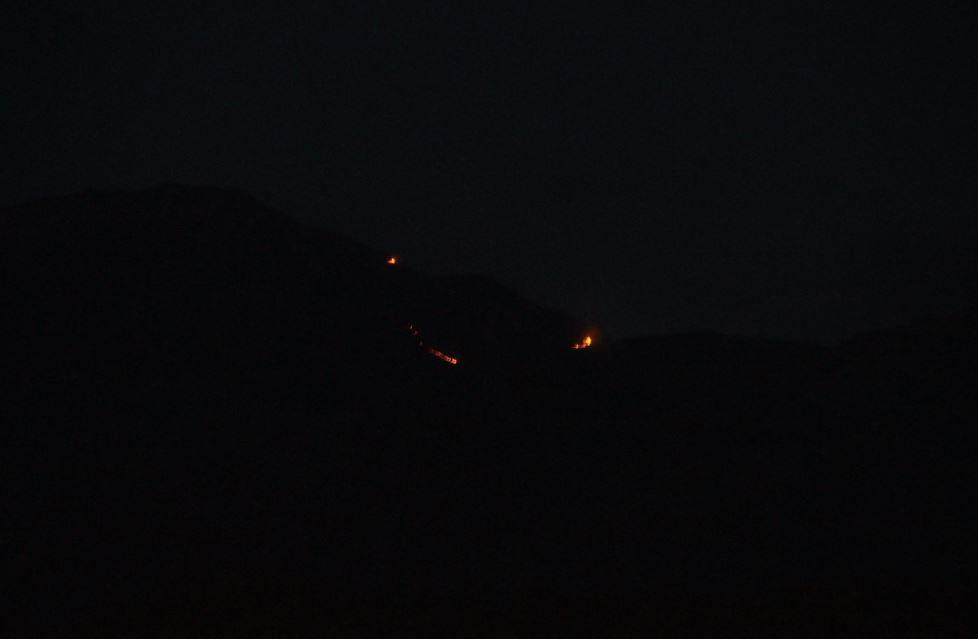fire: (571, 332, 594, 352)
